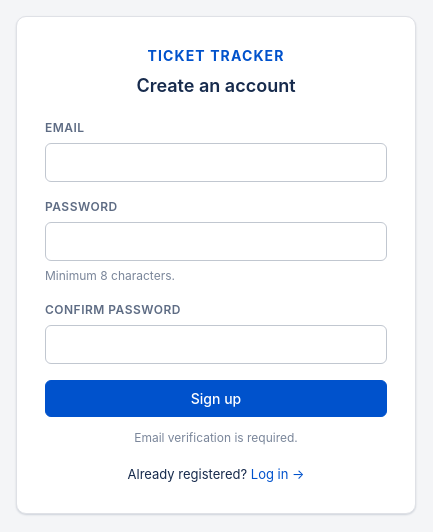
SignupPage › on success shows the verification banner with a Continue-to-login link and hides the form
Type "alex@dataart.com" into the field labelled "Email" at (216, 163), box [45,143,387,182]
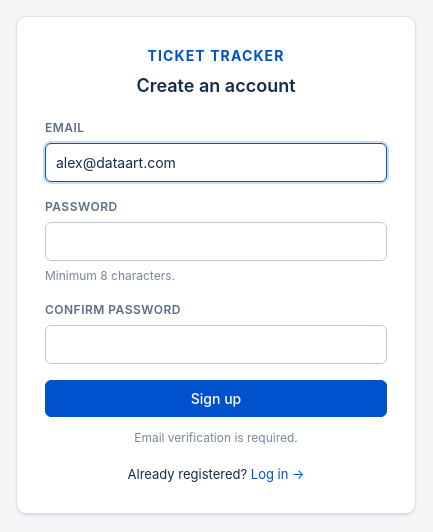
Type "correct horse battery" into the password field labelled "Password" at (216, 242), box [45,222,387,261]
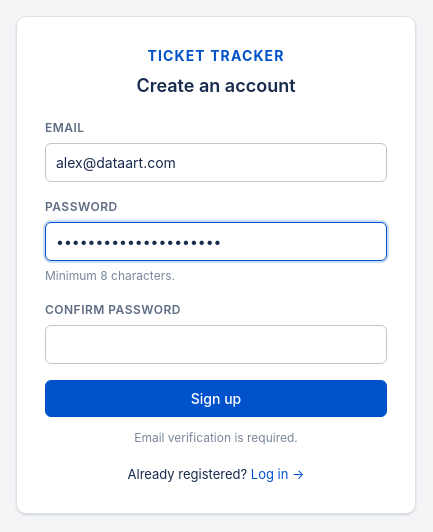
Type "correct horse battery" into the password field labelled "Confirm password" at (216, 345), box [45,325,387,364]
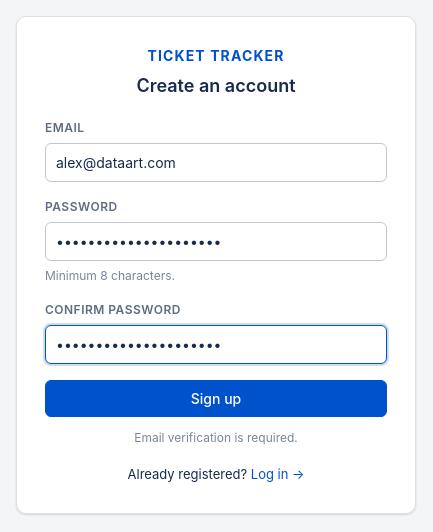
Click the button "Sign up" at (216, 399), box [45,380,387,417]
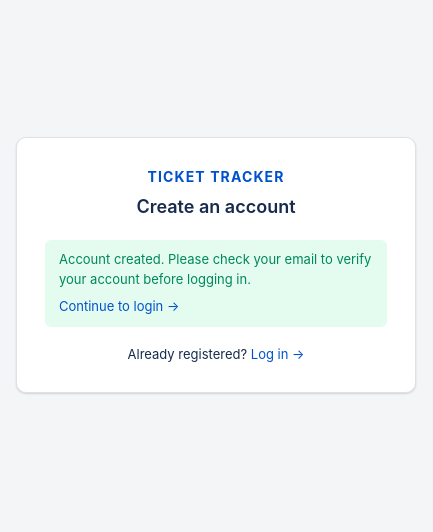
Check: the text "check your email to verify your account" is shown, box [59,251,371,286]
Check: the button "Sign up" is gone
